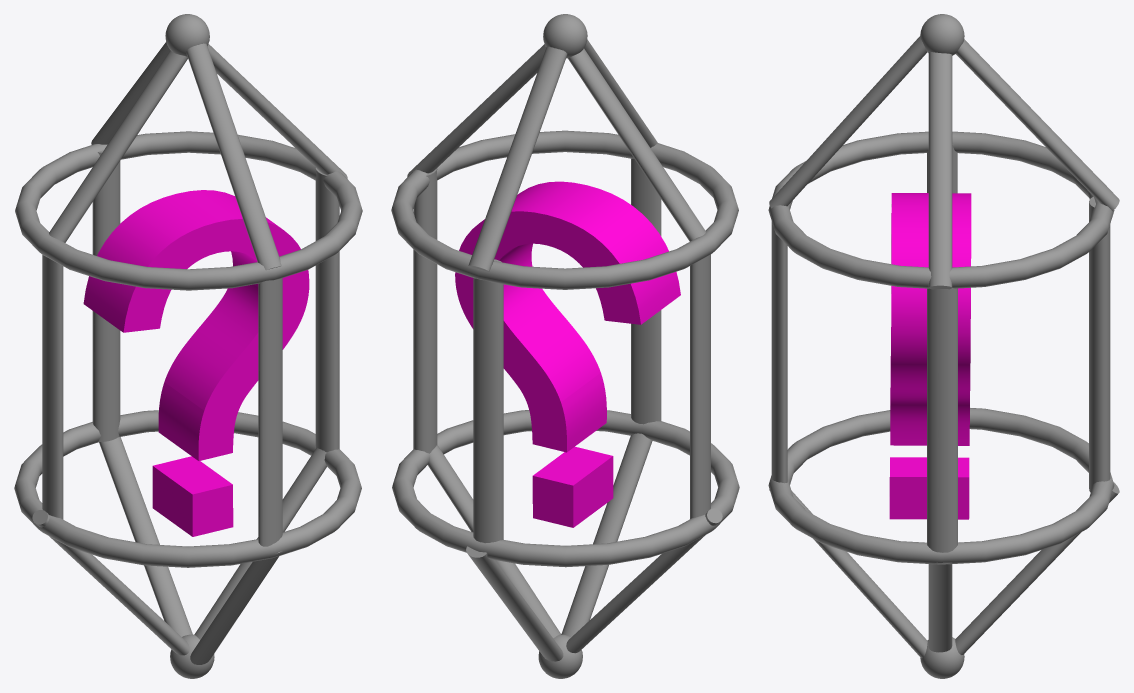
3 renders of one model, left to right at view 1: azimuth 30°, elevation 25°; view 2: azimuth 150°, elevation 25°; view 3: azimuth 270°, elevation 25°, orthographic.
Visible parts, largest first — view 1: TextPlus001, Torus001, Torus002, Cylinder004, Cylinder002, Cylinder001, Cylinder013, Cylinder003, Cylinder014, Cylinder015, Cylinder008, Cylinder016 (+5 smaller); view 2: TextPlus001, Torus001, Torus002, Cylinder003, Cylinder002, Cylinder001, Cylinder005, Cylinder004, Cylinder014, Cylinder017, Cylinder008, Cylinder016 (+5 smaller); view 3: TextPlus001, Torus002, Torus001, Cylinder002, Cylinder008, Cylinder003, Cylinder004, Cylinder005, Cylinder013, Cylinder015, Cylinder017, Cylinder018 (+2 smaller).
Boxes of the visible parts, box(x1,y1,x2,y2) form: TextPlus001: box(83, 190, 309, 536); Torus001: box(15, 131, 362, 290); Torus002: box(14, 410, 361, 567); Cylinder004: box(258, 278, 282, 546); Cylinder002: box(315, 168, 339, 452); Cylinder001: box(42, 255, 63, 519); Cylinder013: box(186, 43, 281, 269); Cylinder003: box(92, 150, 120, 441); Cylinder014: box(49, 50, 187, 242); Cylinder015: box(99, 437, 192, 636); Cylinder008: box(207, 44, 347, 178); Cylinder016: box(32, 510, 189, 655); TextPlus001: box(455, 181, 680, 527); Torus001: box(391, 130, 738, 289); Torus002: box(392, 410, 739, 567); Cylinder003: box(473, 259, 503, 543); Cylinder002: box(413, 168, 437, 453); Cylinder001: box(690, 254, 710, 518); Cylinder005: box(468, 46, 567, 271); Cylinder004: box(631, 158, 661, 424); Cylinder014: box(568, 48, 705, 241); Cylinder017: box(561, 433, 652, 636); Cylinder008: box(407, 44, 546, 176); Cylinder016: box(566, 508, 722, 653); TextPlus001: box(889, 193, 971, 519); Torus002: box(768, 408, 1114, 564); Torus001: box(768, 131, 1114, 288); Cylinder002: box(927, 288, 957, 563); Cylinder008: box(928, 52, 952, 289); Cylinder003: box(1089, 196, 1110, 492); Cylinder004: box(771, 221, 787, 483); Cylinder005: box(956, 39, 1119, 210); Cylinder013: box(769, 36, 927, 208); Cylinder015: box(955, 482, 1119, 654); Cylinder017: box(769, 489, 927, 658); Cylinder018: box(928, 564, 952, 652).
Size of the model in its own units: 36.58 by 74.67 by 36.07.
